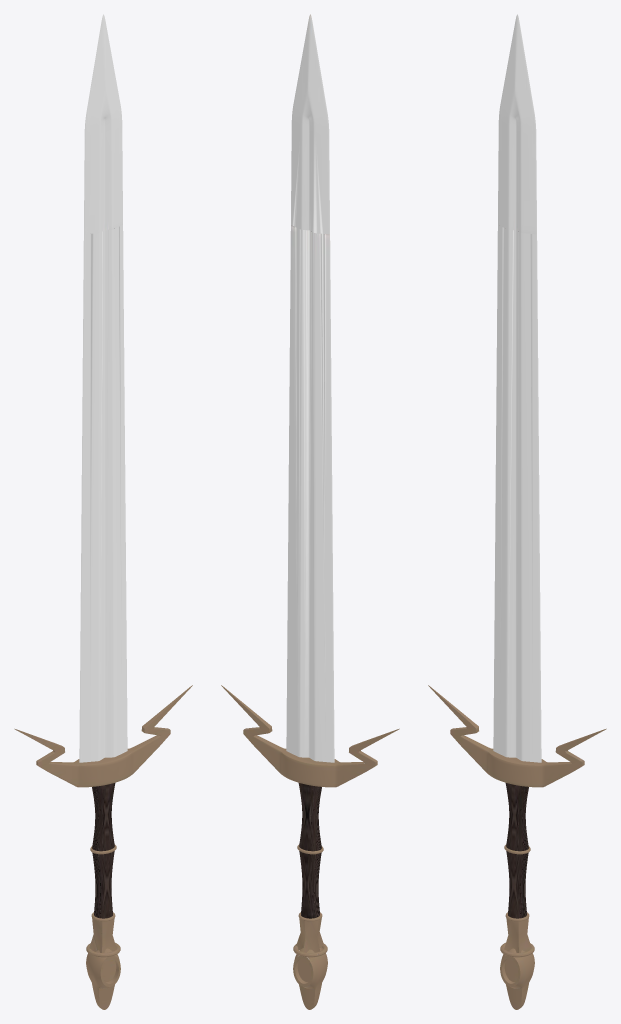
File: sword-v2.opt.glb
3 renders of one model, left to right at view 1: azimuth 30°, elevation 25°; view 2: azimuth 150°, elevation 25°; view 3: azimuth 330°, elevation 25°, orthographic.
Parts seen in each view (by area): view 1: Sword; view 2: Sword; view 3: Sword.
Boxes of the visible parts, box(x1,y1,x2,y2) form: Sword: box(14, 14, 192, 1009); Sword: box(221, 14, 399, 1009); Sword: box(428, 14, 606, 1009).
Size of the model in its own units: 0.3753 by 2 by 0.0635.
1 material, 1 textured.
